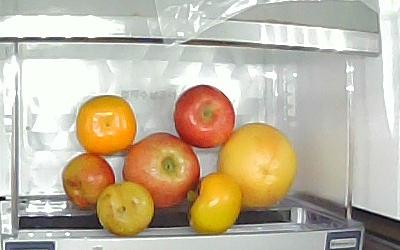apple: (122, 133, 203, 209), (175, 85, 236, 149)
grapefruit: (218, 121, 298, 210)
persimmon: (76, 94, 138, 156), (187, 172, 242, 234)
prune: (96, 183, 155, 236), (61, 154, 117, 209)
